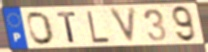3: (143, 8, 167, 42)
9: (171, 5, 197, 44)
L: (85, 9, 112, 44)
O: (26, 10, 56, 47)
T: (55, 11, 78, 44)
V: (107, 5, 139, 46)
